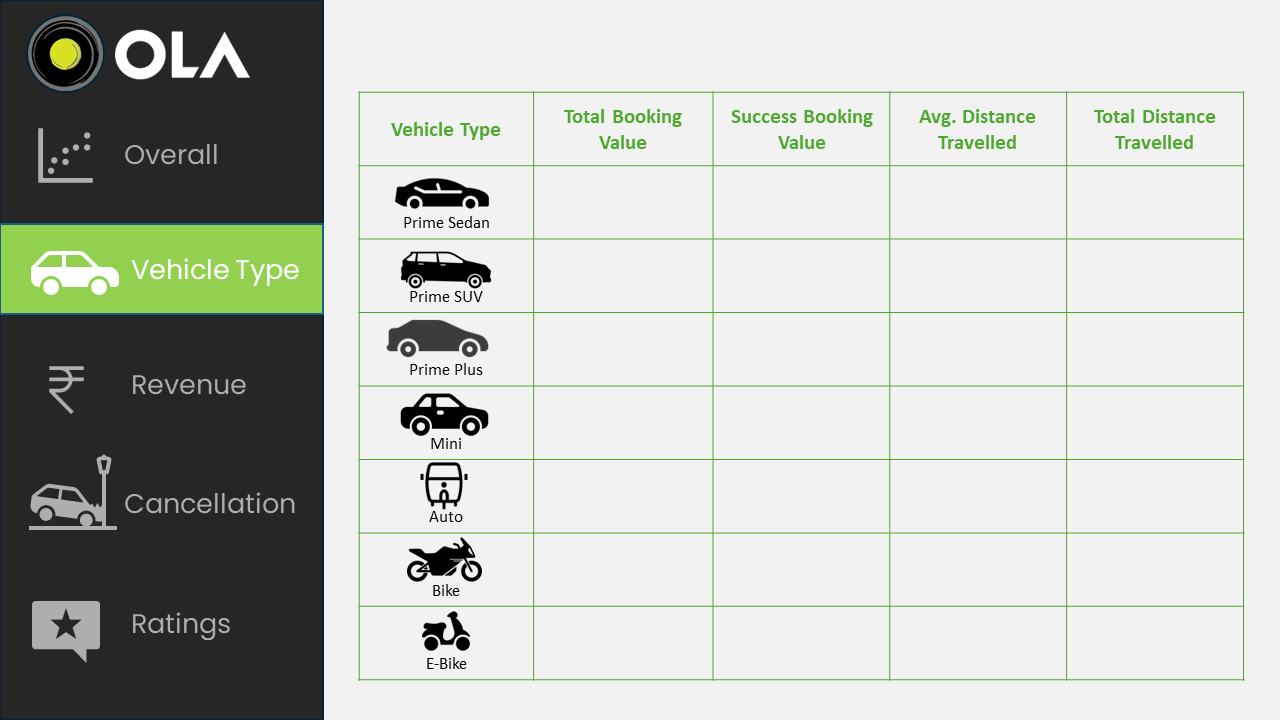

Layout of this report page (visuals, bound fields, positions):
{"tool":"powerbi","page":{"name":"Vehicle Type","canvas":[1280,720],"ordinal":1},"visuals":[{"type":"actionButton","box":[0,222.1,323.9,92],"z":0},{"type":"actionButton","box":[0,336.2,323.9,92],"z":1000},{"type":"actionButton","box":[0,451.5,323.9,92],"z":2000},{"type":"actionButton","box":[0,582.8,323.9,92],"z":3000},{"type":"actionButton","box":[0,109.2,323.9,92],"z":4000},{"type":"card","fields":{"Values":["Sum(Bookings-20000-Rows.Booking_Value)"]},"box":[539.3,166,170.2,65.9],"z":4001},{"type":"card","fields":{"Values":["Sum(Bookings-20000-Rows.Booking_Value)"]},"box":[539.3,234.6,170.2,65.9],"z":4002},{"type":"card","fields":{"Values":["Sum(Bookings-20000-Rows.Booking_Value)"]},"box":[539.3,314.2,170.2,65.9],"z":4003},{"type":"card","fields":{"Values":["Sum(Bookings-20000-Rows.Booking_Value)"]},"box":[539.3,382.8,170.2,65.9],"z":4004},{"type":"card","fields":{"Values":["Sum(Bookings-20000-Rows.Booking_Value)"]},"box":[539.3,465.2,170.2,65.9],"z":4005},{"type":"card","fields":{"Values":["Sum(Bookings-20000-Rows.Booking_Value)"]},"box":[539.3,531,170.2,65.9],"z":4006},{"type":"card","fields":{"Values":["Sum(Bookings-20000-Rows.Booking_Value)"]},"box":[539.3,609.3,170.2,65.9],"z":4007},{"type":"card","fields":{"Values":["Sum(Bookings-20000-Rows.Booking_Value)"]},"box":[723.2,168.8,170.2,65.9],"z":4008},{"type":"card","fields":{"Values":["Sum(Bookings-20000-Rows.Booking_Value)"]},"box":[723.2,234.6,170.2,65.9],"z":4009},{"type":"card","fields":{"Values":["Sum(Bookings-20000-Rows.Booking_Value)"]},"box":[723.2,314.2,170.2,65.9],"z":4010},{"type":"card","fields":{"Values":["Sum(Bookings-20000-Rows.Booking_Value)"]},"box":[723.2,385.6,170.2,65.9],"z":4011},{"type":"card","fields":{"Values":["Sum(Bookings-20000-Rows.Booking_Value)"]},"box":[723.2,465.2,170.2,65.9],"z":4012},{"type":"card","fields":{"Values":["Sum(Bookings-20000-Rows.Booking_Value)"]},"box":[723.2,531,170.2,65.9],"z":4013},{"type":"card","fields":{"Values":["Sum(Bookings-20000-Rows.Booking_Value)"]},"box":[723.2,609.3,170.2,65.9],"z":4014}]}

Visuals, with their boxes in screenshot pixels (x1, y1, x2, y2), scaled from the page's 1280x720 canvas onto the 1280x720 screenshot:
actionButton: l=0, t=222, r=324, b=314
actionButton: l=0, t=336, r=324, b=428
actionButton: l=0, t=452, r=324, b=544
actionButton: l=0, t=583, r=324, b=675
actionButton: l=0, t=109, r=324, b=201
card - Sum(Bookings-20000-Rows.Booking_Value): l=539, t=166, r=710, b=232
card - Sum(Bookings-20000-Rows.Booking_Value): l=539, t=235, r=710, b=300
card - Sum(Bookings-20000-Rows.Booking_Value): l=539, t=314, r=710, b=380
card - Sum(Bookings-20000-Rows.Booking_Value): l=539, t=383, r=710, b=449
card - Sum(Bookings-20000-Rows.Booking_Value): l=539, t=465, r=710, b=531
card - Sum(Bookings-20000-Rows.Booking_Value): l=539, t=531, r=710, b=597
card - Sum(Bookings-20000-Rows.Booking_Value): l=539, t=609, r=710, b=675
card - Sum(Bookings-20000-Rows.Booking_Value): l=723, t=169, r=893, b=235
card - Sum(Bookings-20000-Rows.Booking_Value): l=723, t=235, r=893, b=300
card - Sum(Bookings-20000-Rows.Booking_Value): l=723, t=314, r=893, b=380
card - Sum(Bookings-20000-Rows.Booking_Value): l=723, t=386, r=893, b=452
card - Sum(Bookings-20000-Rows.Booking_Value): l=723, t=465, r=893, b=531
card - Sum(Bookings-20000-Rows.Booking_Value): l=723, t=531, r=893, b=597
card - Sum(Bookings-20000-Rows.Booking_Value): l=723, t=609, r=893, b=675
